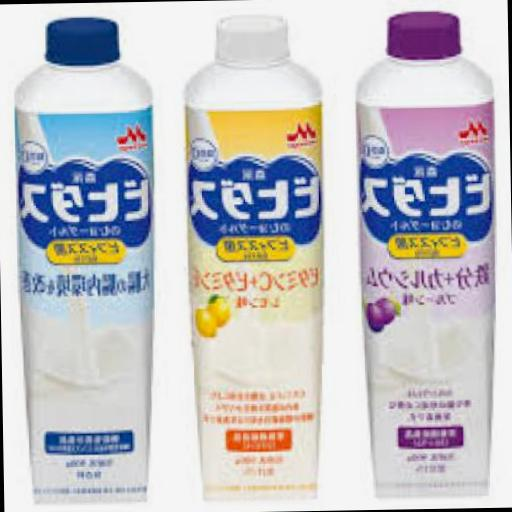plastic: (16, 14, 164, 502), (357, 8, 503, 496), (186, 14, 332, 496), (216, 11, 293, 68), (47, 12, 122, 66), (388, 10, 464, 60)
